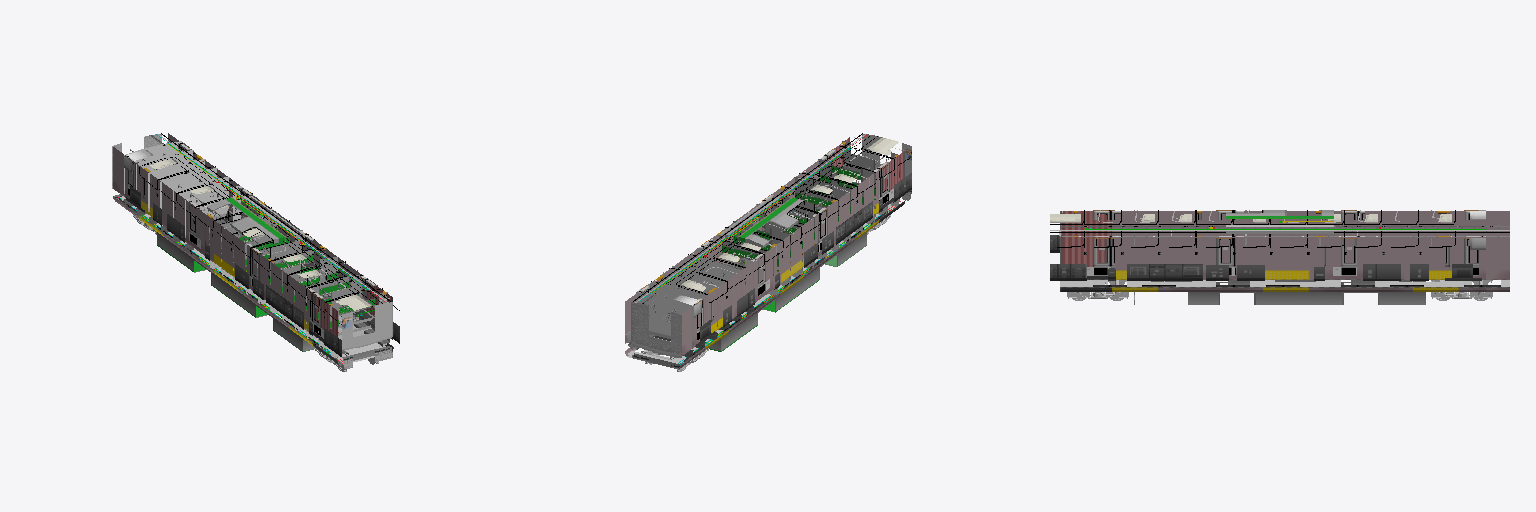
3 views of the same model, side by side, from view 1: azimuth 30°, elevation 25°; view 2: azimuth 150°, elevation 25°; view 3: azimuth 270°, elevation 25° (orthographic).
Parts seen in each view (by area): view 1: BD2-24m_body_interior_(type_I), BD4-24m_body_interior_(type_I), BD1-24m_body_exterior_(type_I), HP2-type_m-3E-front, MC1-bottom_machine, MC2-top_machine, HP1-type_m-3E-front, BD3-24m_body_interior_(type_I), HP6-type_m-3E-back; view 2: BD2-24m_body_interior_(type_I), BD4-24m_body_interior_(type_I), BD1-24m_body_exterior_(type_I), MC1-bottom_machine, HP6-type_m-3E-back, MC2-top_machine, HP5-type_m-3A-back, HP2-type_m-3E-front, HP1-type_m-3E-front, WD2RB, BD3-24m_body_interior_(type_I); view 3: BD2-24m_body_interior_(type_I), BD1-24m_body_exterior_(type_I), MC1-bottom_machine, HP6-type_m-3E-back, MC2-top_machine, bogie, WD2LB, HP1-type_m-3E-front, BD4-24m_body_interior_(type_I), BD3-24m_body_interior_(type_I), HP2-type_m-3E-front.
Part boxes in pixels (x1,y1,x2,y2): BD2-24m_body_interior_(type_I): (125, 148, 383, 355); BD4-24m_body_interior_(type_I): (124, 141, 387, 357); BD1-24m_body_exterior_(type_I): (124, 142, 385, 359); HP2-type_m-3E-front: (332, 293, 392, 369); MC1-bottom_machine: (157, 232, 314, 351); MC2-top_machine: (207, 196, 304, 243); HP1-type_m-3E-front: (330, 293, 399, 368); BD3-24m_body_interior_(type_I): (126, 142, 386, 333); HP6-type_m-3E-back: (112, 133, 178, 203); BD2-24m_body_interior_(type_I): (644, 144, 898, 354); BD4-24m_body_interior_(type_I): (636, 141, 899, 356); BD1-24m_body_exterior_(type_I): (637, 142, 899, 359); MC1-bottom_machine: (709, 232, 866, 351); HP6-type_m-3E-back: (625, 293, 691, 368); MC2-top_machine: (719, 196, 805, 247); HP5-type_m-3A-back: (631, 304, 681, 354); HP2-type_m-3E-front: (845, 134, 911, 199); HP1-type_m-3E-front: (851, 133, 911, 209); WD2RB: (697, 176, 886, 340); BD3-24m_body_interior_(type_I): (637, 142, 897, 336); BD2-24m_body_interior_(type_I): (1074, 211, 1485, 286); BD1-24m_body_exterior_(type_I): (1074, 210, 1485, 291); MC1-bottom_machine: (1134, 280, 1425, 304); HP6-type_m-3E-back: (1486, 211, 1509, 286); MC2-top_machine: (1226, 210, 1333, 233); bogie: (1067, 280, 1492, 300); WD2LB: (1098, 246, 1478, 275); HP1-type_m-3E-front: (1050, 214, 1073, 291); BD4-24m_body_interior_(type_I): (1074, 225, 1486, 236); BD3-24m_body_interior_(type_I): (1074, 211, 1485, 236); HP2-type_m-3E-front: (1050, 211, 1073, 263).
Size of the model in its own units: 2.79 by 3.47 by 19.
Materials: 4 (2 with a texture image).